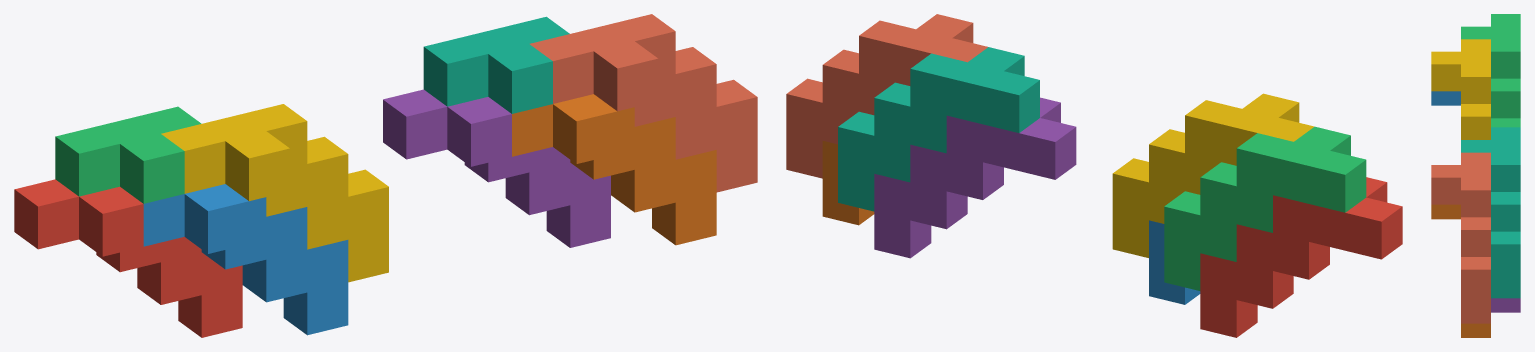
Rendered from tiling.obj.
The picture shows the model from 3 angles, left to right: view 1: azimuth 30°, elevation 25°; view 2: azimuth 150°, elevation 25°; view 3: azimuth 270°, elevation 25°; orthographic projection. The views are drawn at different scales.
Parts seen in each view (by area): view 1: copy_1_domain_8, copy_1_domain_4, copy_1_domain_2, copy_1_domain_6, copy_1_domain_1, copy_1_domain_5, copy_1_domain_3, copy_1_domain_7; view 2: copy_1_domain_3, copy_1_domain_7, copy_1_domain_5, copy_1_domain_1, copy_1_domain_4, copy_1_domain_8, copy_1_domain_6, copy_1_domain_2; view 3: copy_1_domain_8, copy_1_domain_7, copy_1_domain_4, copy_1_domain_3, copy_1_domain_6, copy_1_domain_2, copy_1_domain_5.
Boxes of the visible parts, x1,y1,x2,y2 form: copy_1_domain_8: (530,14,757,192); copy_1_domain_4: (161,104,388,282); copy_1_domain_2: (143,184,348,335); copy_1_domain_6: (512,94,716,245); copy_1_domain_1: (14,179,242,337); copy_1_domain_5: (383,89,610,247); copy_1_domain_3: (55,106,201,203); copy_1_domain_7: (423,16,569,113); copy_1_domain_3: (1164,126,1366,290); copy_1_domain_7: (838,47,1039,211); copy_1_domain_5: (874,97,1076,258); copy_1_domain_1: (1200,177,1402,337); copy_1_domain_4: (1112,93,1314,257); copy_1_domain_8: (786,14,987,178); copy_1_domain_6: (822,141,874,225); copy_1_domain_2: (1149,220,1200,304); copy_1_domain_8: (1431,152,1490,323); copy_1_domain_7: (1461,127,1520,298); copy_1_domain_4: (1431,39,1490,139); copy_1_domain_3: (1461,14,1520,127); copy_1_domain_6: (1431,204,1490,337); copy_1_domain_2: (1431,91,1460,105); copy_1_domain_5: (1491,298,1520,312).
Size of the model in its own units: 17 by 5 by 3.
